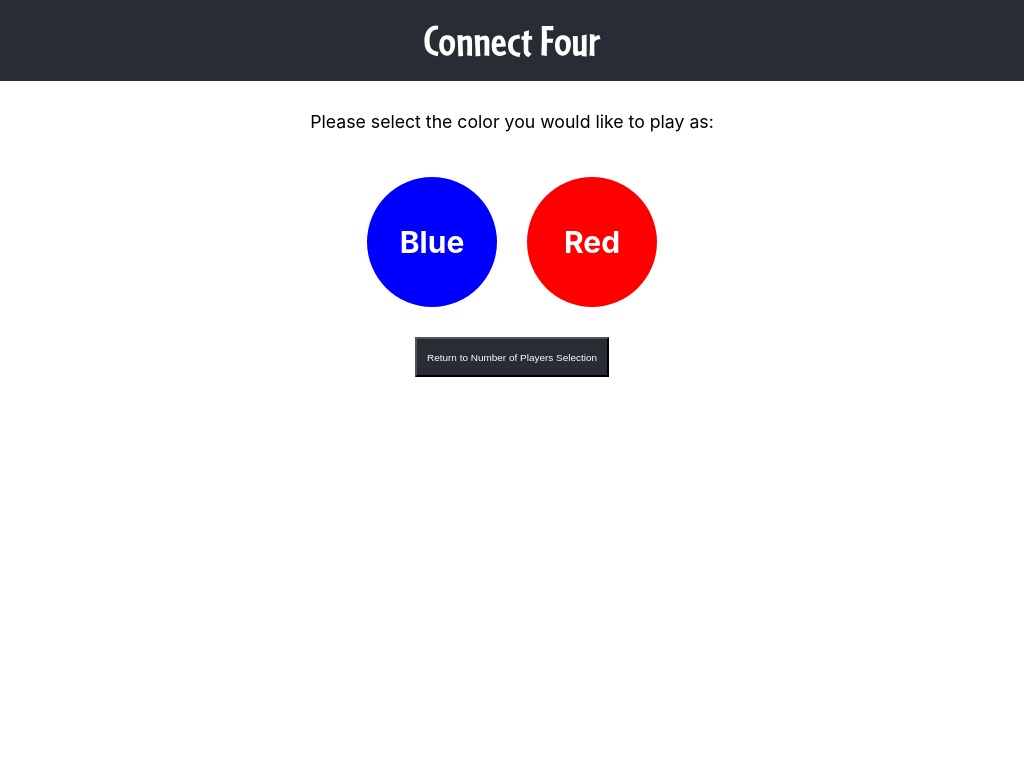
Scenario: clicking blue sets player 1 as blue player, and computer as red player
The width and height of the screenshot is (1024, 768).
Click the link with id "blueLink": (432, 242) [367, 177, 497, 307]
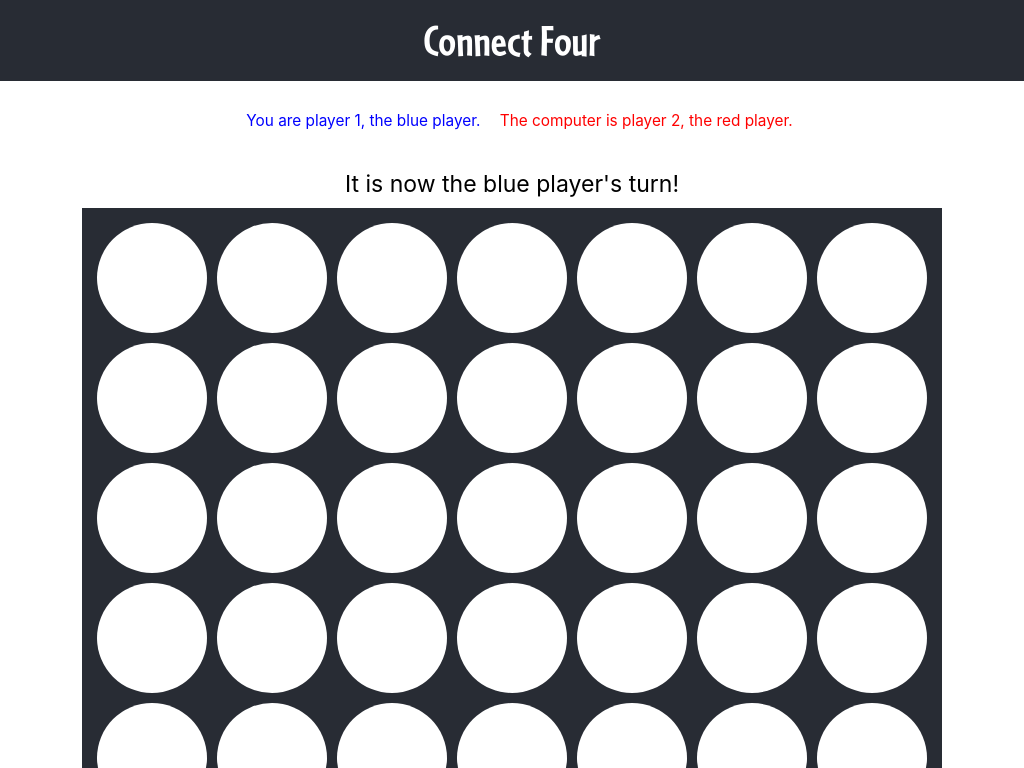
Check: the text "You are player 1, the blue player." is shown, box [231, 111, 480, 130]
Check: the text with id "computerHeader" reads "The computer is player 2, the red player.", box [485, 111, 793, 130]
